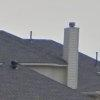Chimney: (58, 17, 86, 89)
